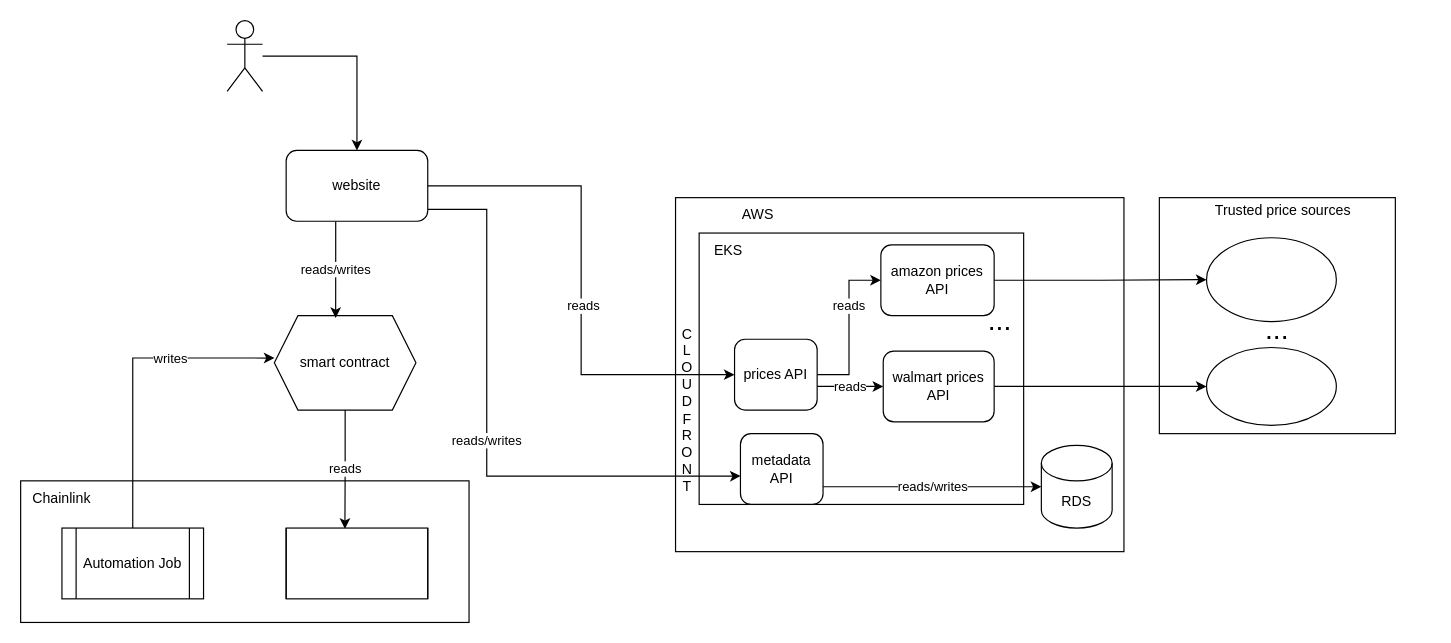
This 1451x643 diagram has some shape labels left out. The shapes that lost their labels are listed below. From the top down, each one's centre as x and y in pixels, then its label:
pixel 244 55: User
pixel 1270 279: amazon
pixel 1270 385: walmart
pixel 356 563: eth-usd data feed
